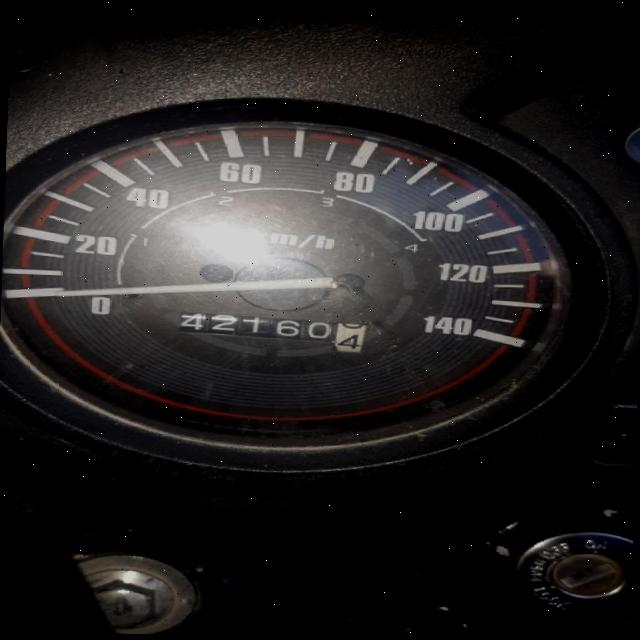odometer: (174, 310, 366, 354)
